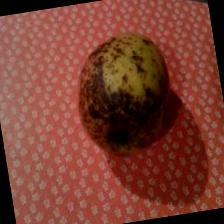Mango Overripe: (70, 19, 181, 160)
